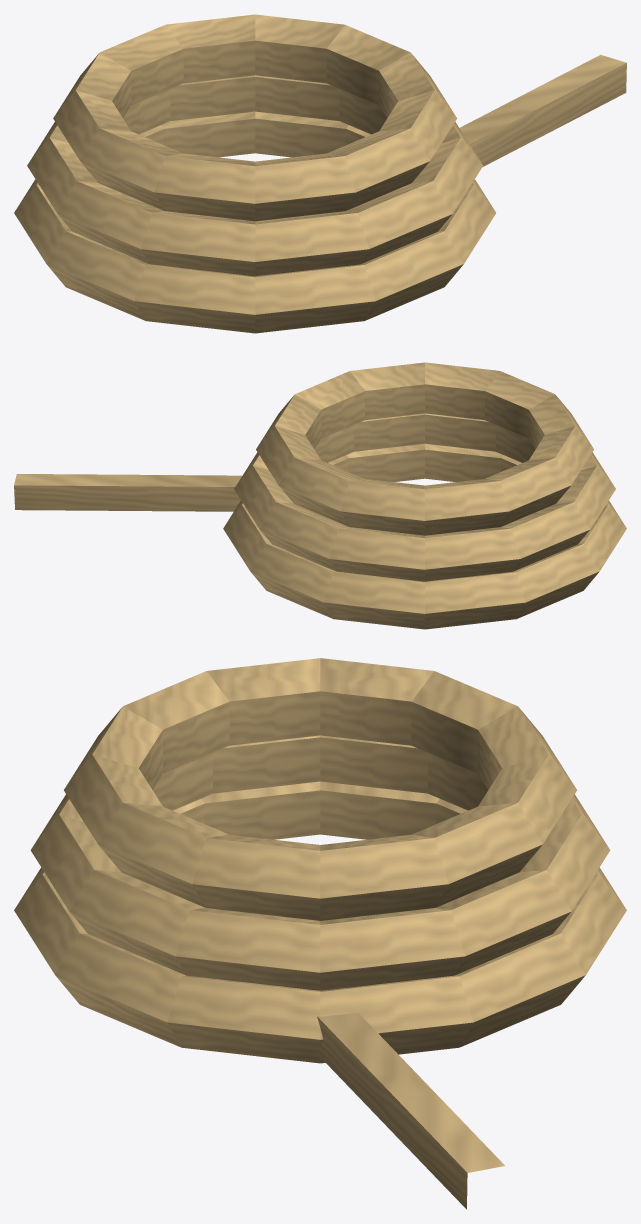
File: prop_rope_coil_01.glb
3 renders of one model, top to bottom at view 1: azimuth 30°, elevation 25°; view 2: azimuth 150°, elevation 25°; view 3: azimuth 270°, elevation 25°, orthographic. The views are drawn at different scales.
Visible parts, largest first — view 1: prop_rope_coil_01; view 2: prop_rope_coil_01; view 3: prop_rope_coil_01.
Boxes of the visible parts, bbox=[...] form: prop_rope_coil_01: bbox=[14, 14, 626, 333]; prop_rope_coil_01: bbox=[14, 362, 626, 629]; prop_rope_coil_01: bbox=[14, 658, 626, 1209].
Bounding box in the file's own units: 1.13 × 0.2551 × 0.74.
1 material, 1 textured.
